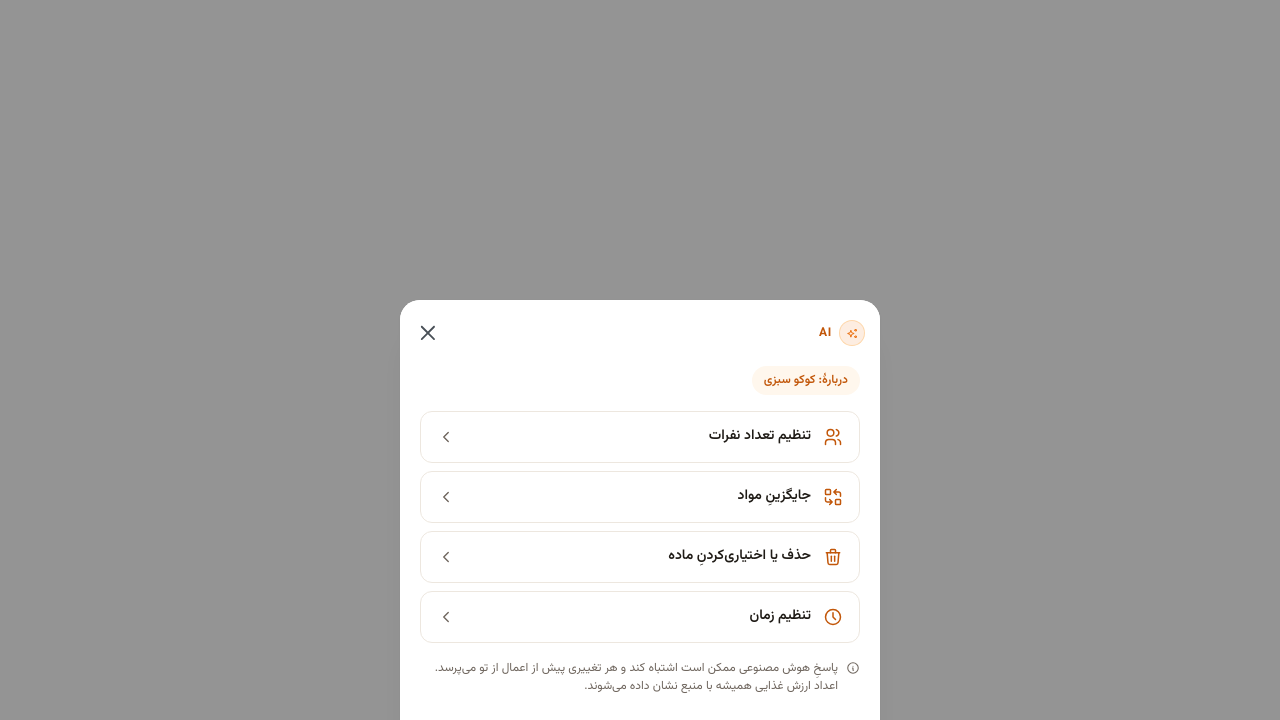
it: AISheet — in-context, proposes-not-auto › swap is in-context and Apply is disabled until an option is picked (no navigation, no auto-apply)
What coordinates should you click on to do the following:
click the button "جایگزینِ مواد"
I would click on:
 (774, 496)
Its box is x1=420 y1=471 x2=860 y2=523.
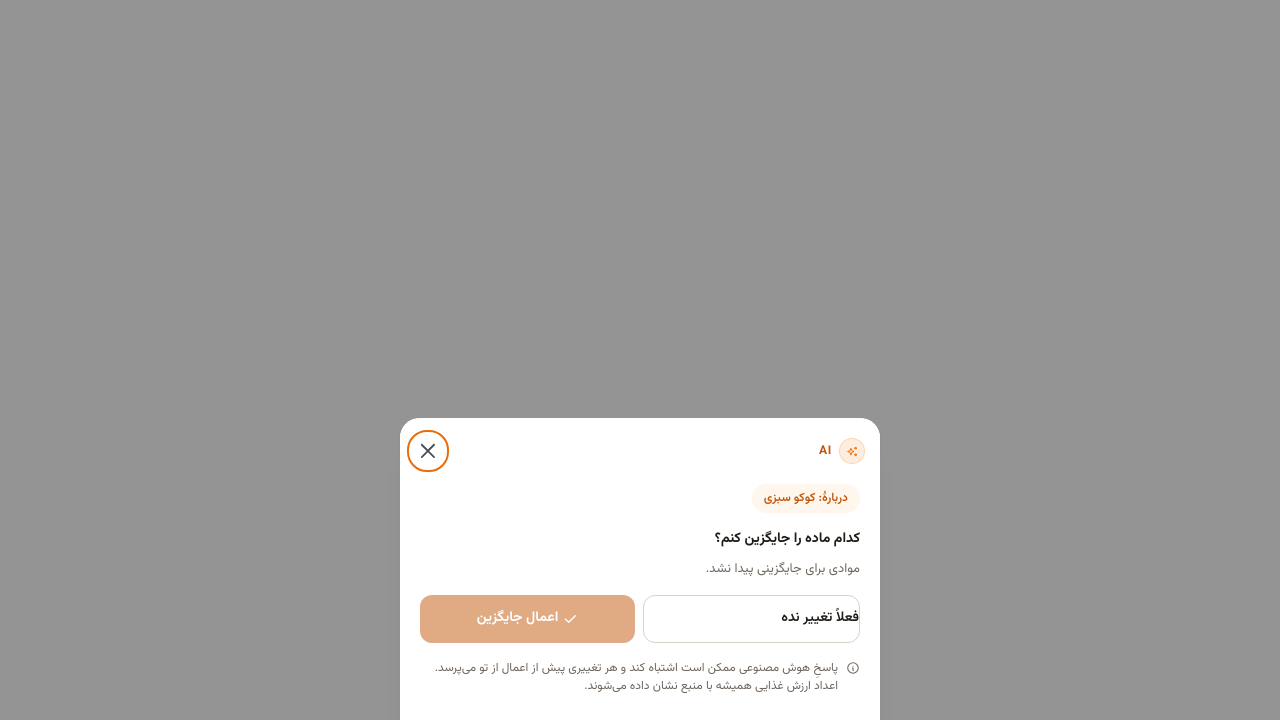
Now the text "کدام ماده را جایگزین کنم؟" is shown, box x1=715 y1=528 x2=860 y2=550
Now the button "اعمال جایگزین" is disabled, box x1=420 y1=595 x2=635 y2=643
Now the button "فعلاً تغییر نده" is shown, box x1=643 y1=595 x2=860 y2=643
